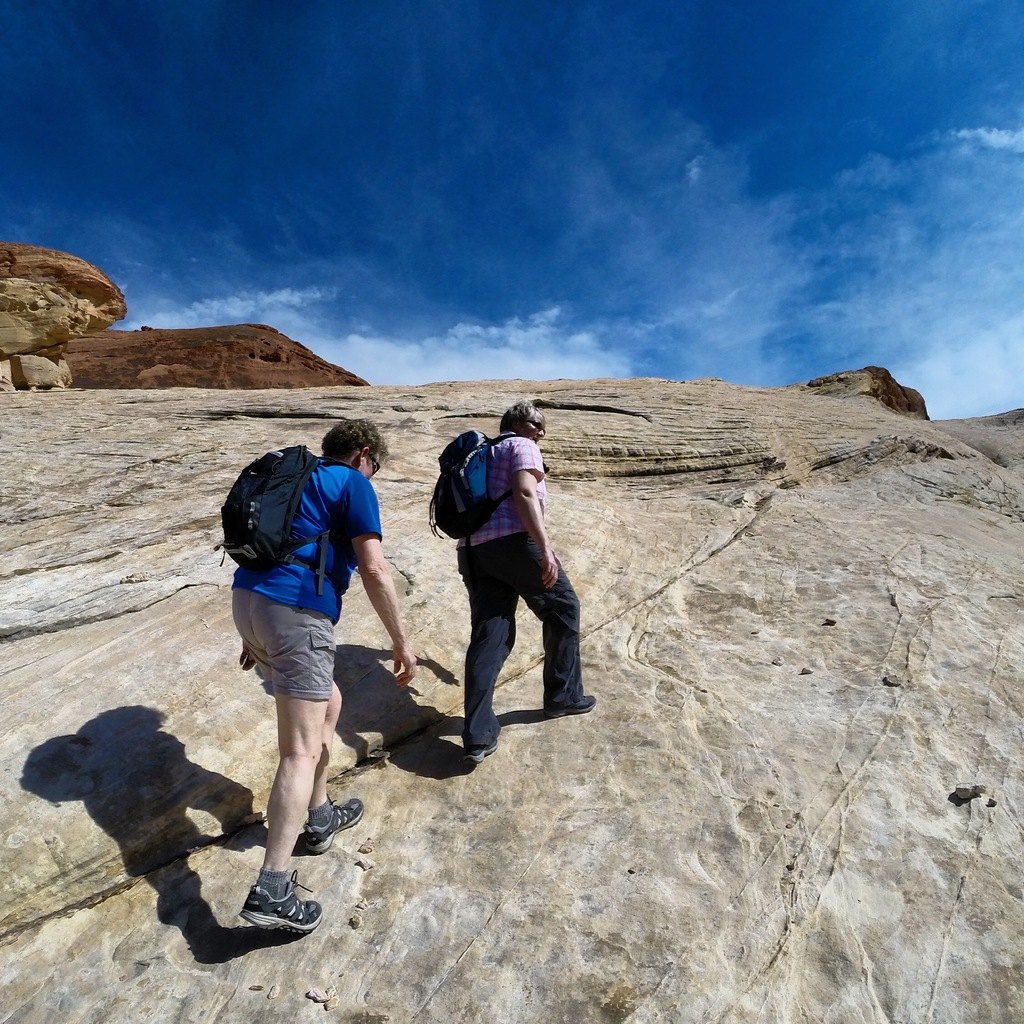Footwear: (242, 867, 326, 933), (300, 792, 371, 857), (541, 694, 600, 716), (461, 740, 507, 766)
